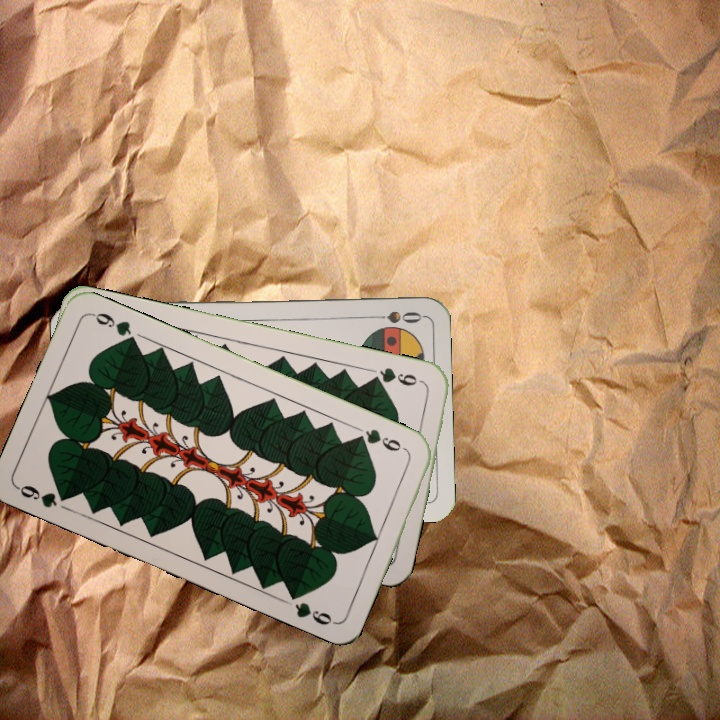G9: (14, 481, 74, 511), (351, 425, 410, 455), (366, 363, 427, 389)
SO: (365, 306, 424, 326)
